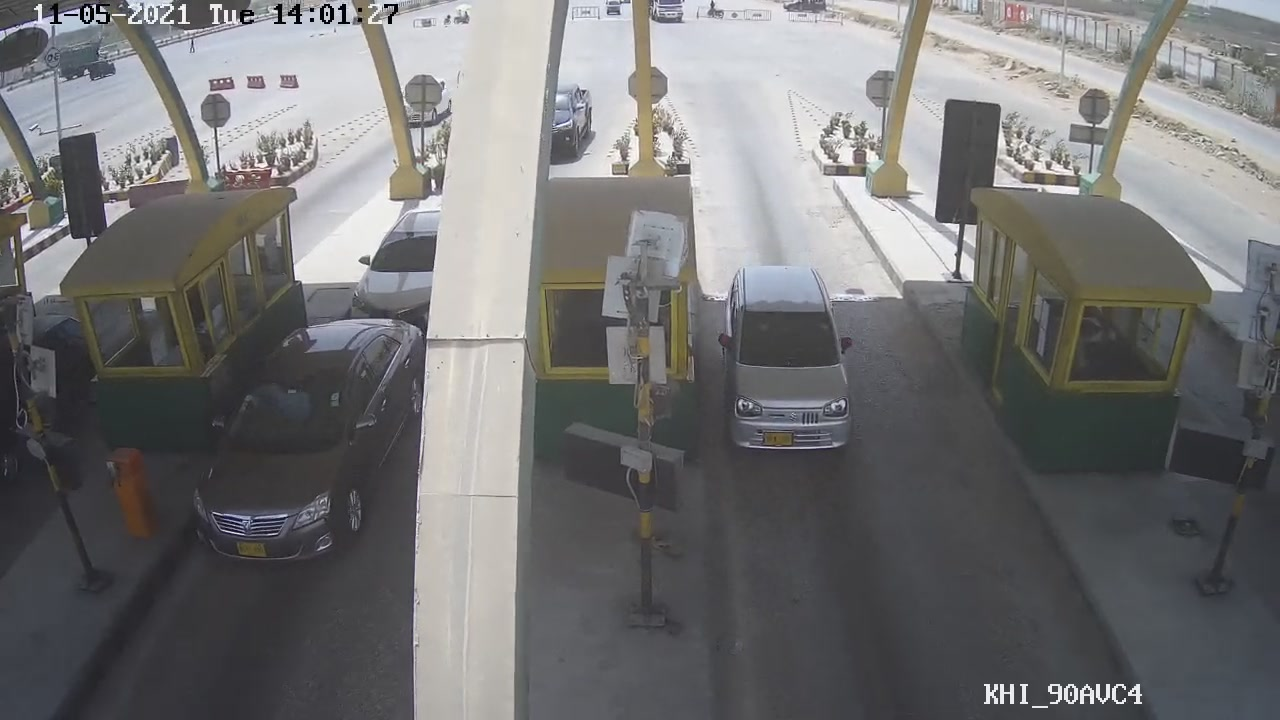F1: (712, 269, 865, 466)
